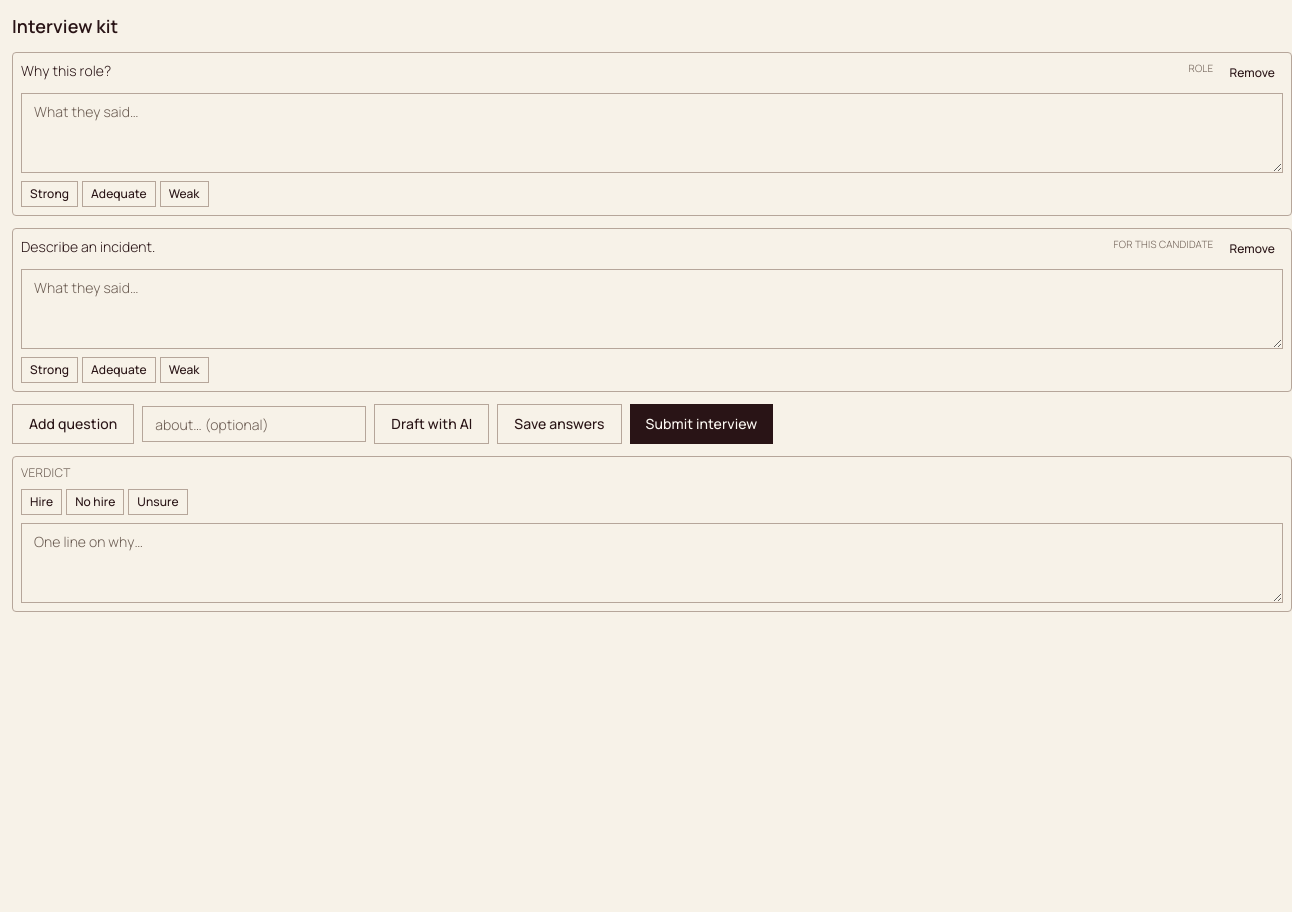
InterviewKitSection › surfaces a failed draft instead of silently doing nothing
Expected: the text box showing "Why this role?" is shown, [21,61,1180,80]
Click the button "Draft with AI": click(432, 424) [374,404,489,444]
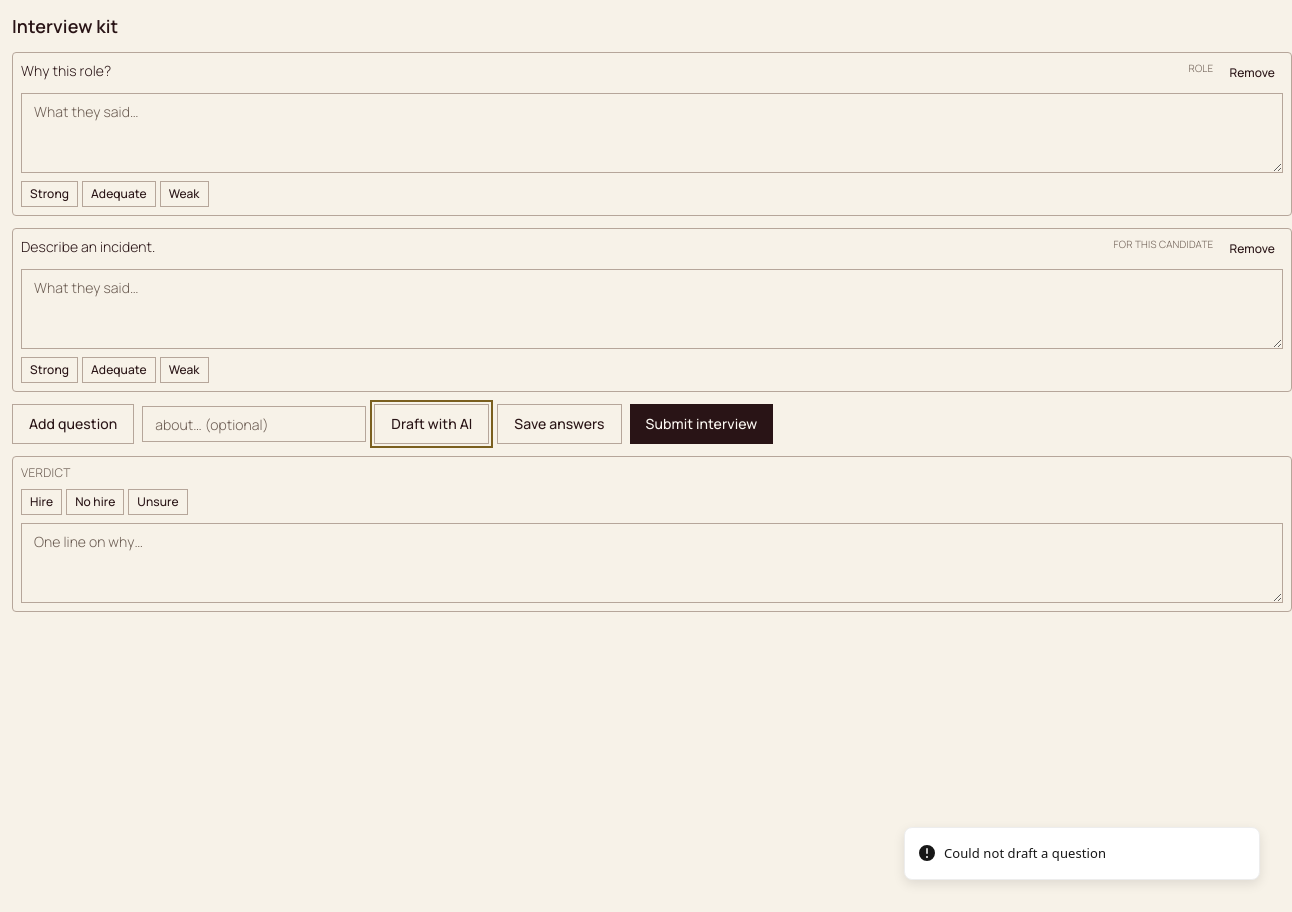
Now the text "Could not draft a question" is shown, box [944,844,1106,863]
